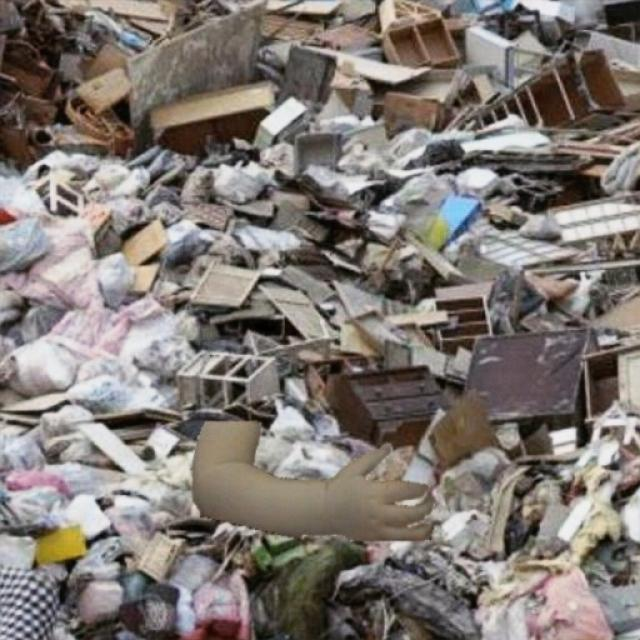Person in Rubble: (190, 421, 434, 540)
